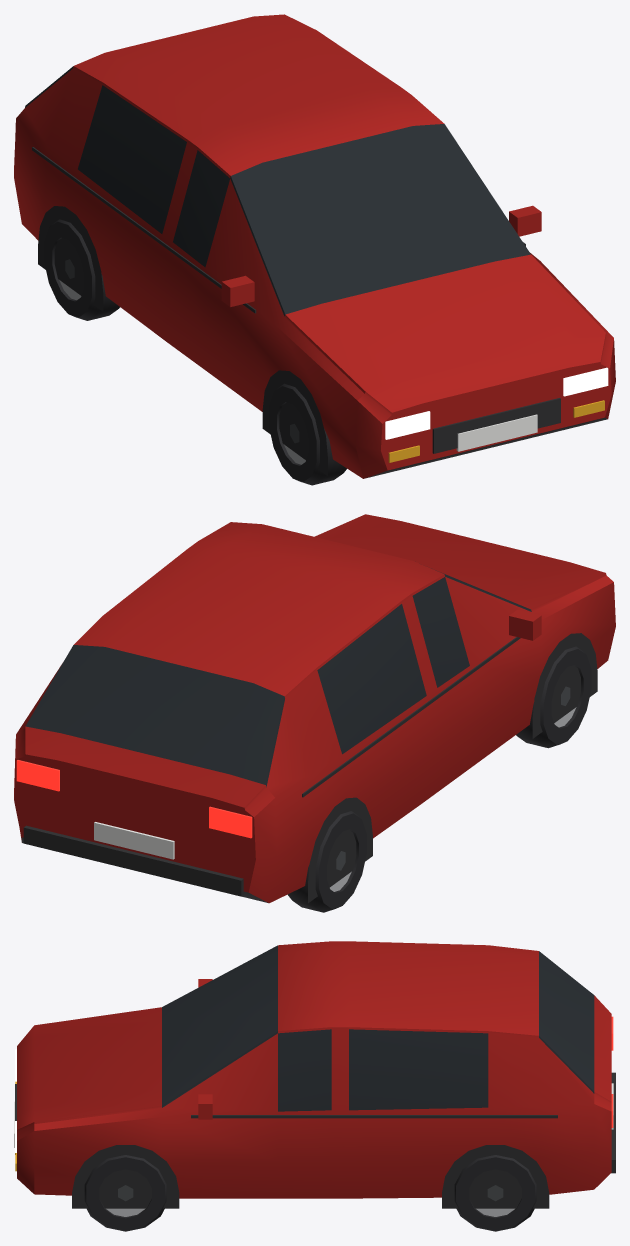
File: hatchback_red.glb
3 renders of one model, top to bottom at view 1: azimuth 30°, elevation 25°; view 2: azimuth 150°, elevation 25°; view 3: azimuth 270°, elevation 25°, orthographic. The views are drawn at different scales.
Visible parts, largest first — view 1: hatchback; view 2: hatchback; view 3: hatchback.
Part boxes in pixels (left/top/right/bottom): hatchback: left=14, top=14, right=615, bottom=485; hatchback: left=14, top=514, right=615, bottom=912; hatchback: left=14, top=941, right=615, bottom=1231.
Bounding box in the file's own units: 0.1224 × 0.0912 × 0.249.
